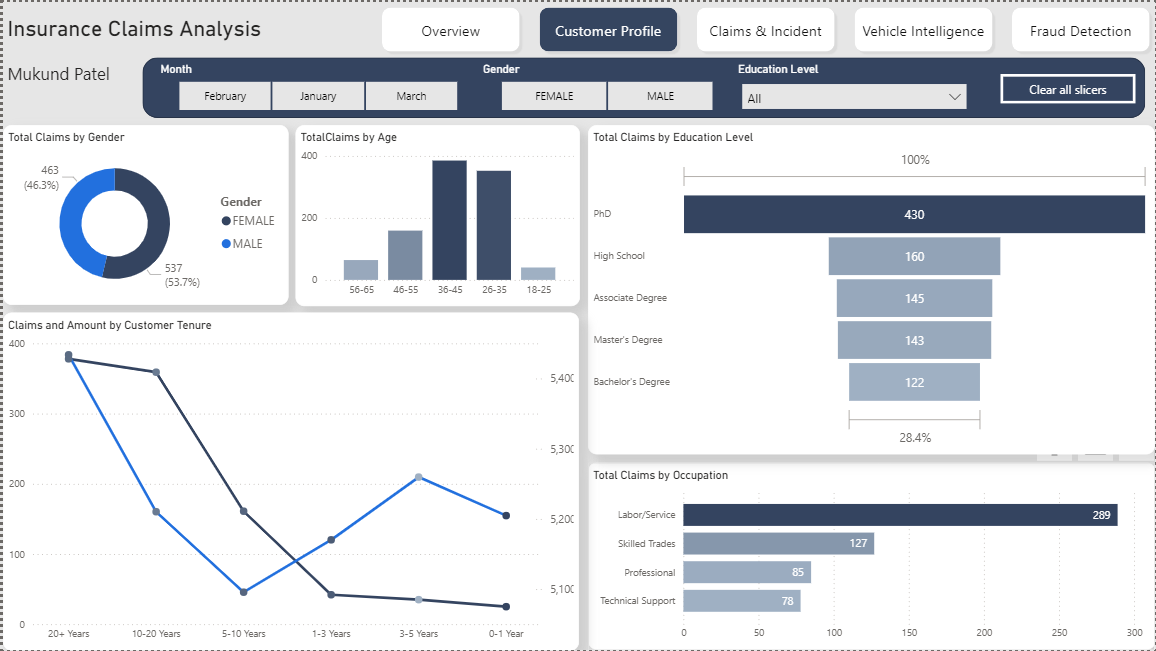

This screenshot's page, from the dashboard's own definition file:
{"tool":"powerbi","page":{"name":"Customer Profile","canvas":[1280,720],"ordinal":1},"visuals":[{"type":"donutChart","fields":{"Category":["ClaimsData.insured_sex"],"Y":["_Measures.TotalClaims"]},"box":[0,137.1,317.1,200],"z":0},{"type":"clusteredColumnChart","fields":{"Category":["ClaimsData.AgeGroup"],"Y":["_Measures.TotalClaims"]},"box":[324.3,137.1,315.7,201.4],"z":1000},{"type":"clusteredBarChart","fields":{"Category":["ClaimsData.OccupationGroup"],"Y":["_Measures.TotalClaims"]},"box":[649.6,512,630.4,208],"z":2000},{"type":"funnel","fields":{"Category":["ClaimsData.EducationGroup"],"Y":["_Measures.TotalClaims"]},"box":[650,137.1,630,365.7],"z":3000},{"type":"lineChart","title":"Claims and Amount by Customer Tenure","fields":{"Category":["ClaimsData.TenureGroup"],"Y":["_Measures.TotalClaims"],"Y2":["_Measures.AvgTotalClaimsAmount"]},"box":[0,344.3,640,375.7],"z":4000},{"type":"textbox","box":[0,10,414.3,44.3],"z":5000},{"type":"textbox","box":[0,61.4,261.4,35.7],"z":6000},{"type":"pageNavigator","box":[414.3,0,865.7,61.4],"z":7000},{"type":"group","id":"g1","title":"Slicers","box":[155.7,61.4,1114.3,67.1],"z":8000},{"type":"shape","box":[155.7,61.4,1114.3,67.1],"z":12000,"group":"g1"},{"type":"slicer","title":"Month","fields":{"Values":["DateTable.Month"]},"box":[170,65.7,358.6,60],"z":13000,"group":"g1"},{"type":"slicer","title":"Gender","fields":{"Values":["ClaimsData.insured_sex"]},"box":[528.6,65.7,284.3,60],"z":14000,"group":"g1"},{"type":"slicer","title":"Education Level","fields":{"Values":["ClaimsData.EducationGroup"]},"box":[812.8,65.7,268.6,55.7],"z":15000,"group":"g1"},{"type":"actionButton","box":[1108.6,80,150,32.9],"z":16000,"group":"g1"}]}

Visuals, with their boxes in screenshot pixels (x1, y1, x2, y2), scaled from the page's 1280x720 canvas onto the 1156x651 screenshot:
donutChart - ClaimsData.insured_sex x _Measures.TotalClaims: box(0, 124, 286, 305)
clusteredColumnChart - ClaimsData.AgeGroup x _Measures.TotalClaims: box(293, 124, 578, 306)
clusteredBarChart - ClaimsData.OccupationGroup x _Measures.TotalClaims: box(587, 463, 1155, 650)
funnel - ClaimsData.EducationGroup x _Measures.TotalClaims: box(587, 124, 1155, 455)
"Claims and Amount by Customer Tenure" lineChart: box(0, 311, 578, 650)
textbox: box(0, 9, 374, 49)
textbox: box(0, 56, 236, 88)
pageNavigator: box(374, 0, 1155, 56)
"Slicers" group: box(141, 56, 1147, 116)
shape: box(141, 56, 1147, 116)
"Month" slicer: box(154, 59, 477, 114)
"Gender" slicer: box(477, 59, 734, 114)
"Education Level" slicer: box(734, 59, 977, 110)
actionButton: box(1001, 72, 1137, 102)
